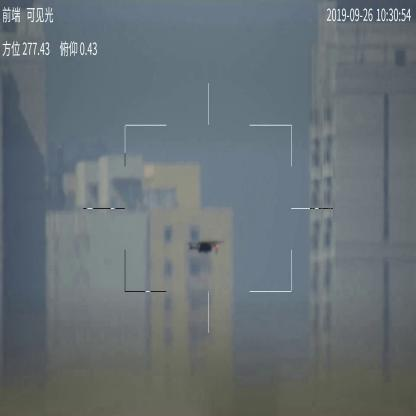uav: (182, 238, 224, 256)
